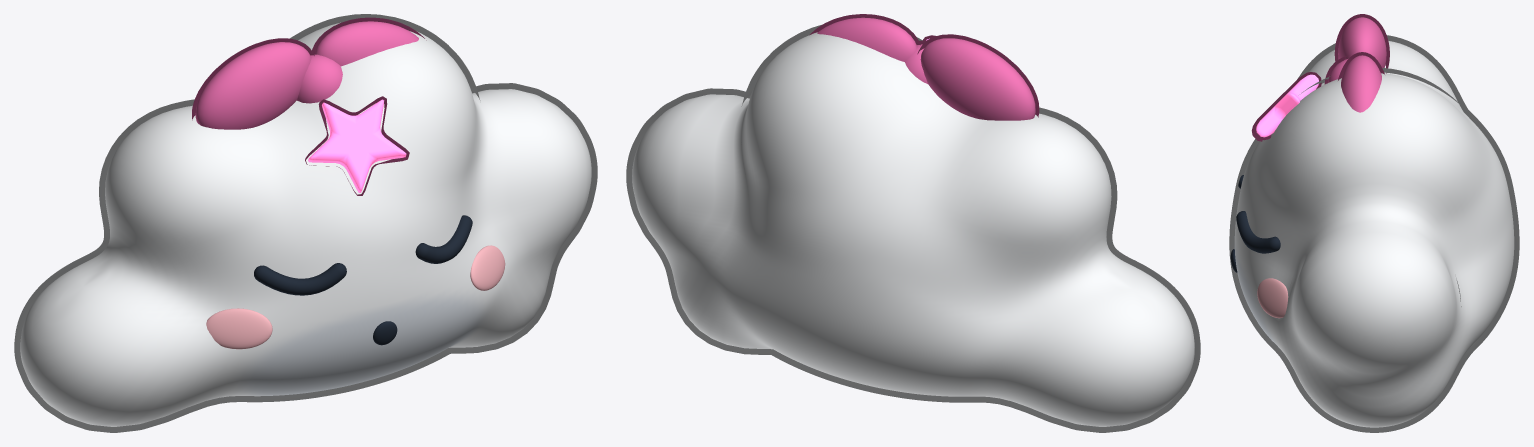
Rendered from pillow.glb.
3 renders of one model, left to right at view 1: azimuth 30°, elevation 25°; view 2: azimuth 150°, elevation 25°; view 3: azimuth 270°, elevation 25°, orthographic. The views are drawn at different scales.
Visible parts, largest first — view 1: body, bow, star, bow.001, cheek, eye, bow_knot, cheek.001, eye.001; view 2: body, bow, bow.001; view 3: body, bow, bow.001, star, cheek.001, eye.001, bow_knot.
Part boxes in pixels (box(x1,y1,x2,y2)): body: box(14, 14, 597, 432); bow: box(192, 38, 314, 129); star: box(305, 96, 409, 195); bow.001: box(312, 17, 426, 66); cheek: box(206, 308, 272, 349); eye: box(254, 263, 346, 295); bow_knot: box(296, 50, 342, 103); cheek.001: box(470, 245, 505, 290); eye.001: box(415, 215, 472, 263); body: box(626, 25, 1200, 432); bow: box(917, 34, 1039, 120); bow.001: box(809, 14, 920, 61); body: box(1229, 35, 1519, 432); bow: box(1334, 14, 1389, 73); bow.001: box(1338, 52, 1384, 112); star: box(1251, 72, 1321, 141); cheek.001: box(1257, 278, 1288, 318); eye.001: box(1236, 211, 1280, 253); bow_knot: box(1324, 55, 1348, 84).
Size of the model in its own units: 2.35 by 1.43 by 1.2.
